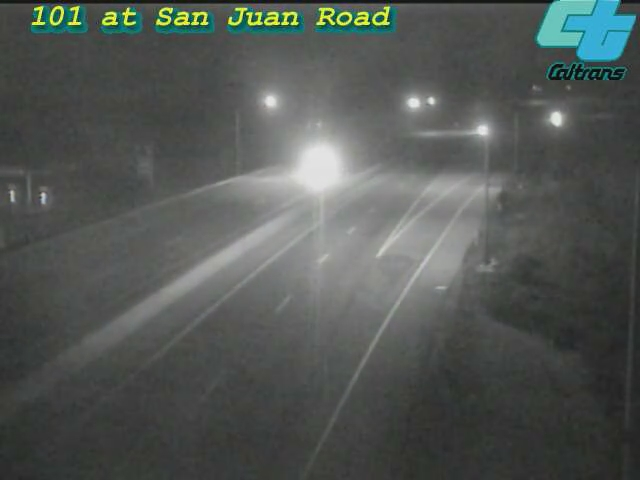vehicle: (281, 125, 361, 205), (460, 105, 510, 155), (530, 95, 580, 145)
